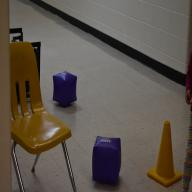cone: (147, 120, 182, 186)
cube: (92, 136, 121, 184), (52, 70, 76, 106)
